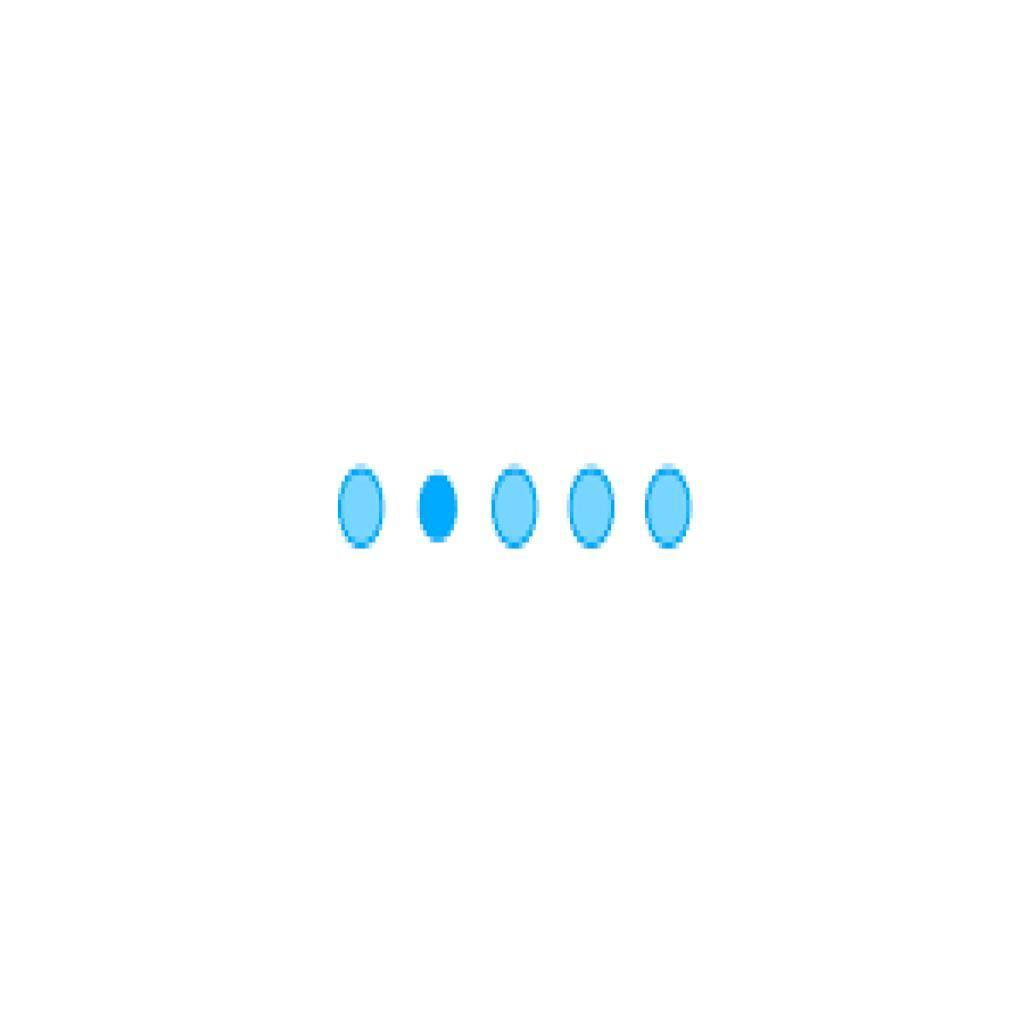radio: (487, 465, 542, 554), (334, 466, 390, 552), (644, 462, 696, 551), (565, 464, 615, 554), (415, 472, 463, 543)
